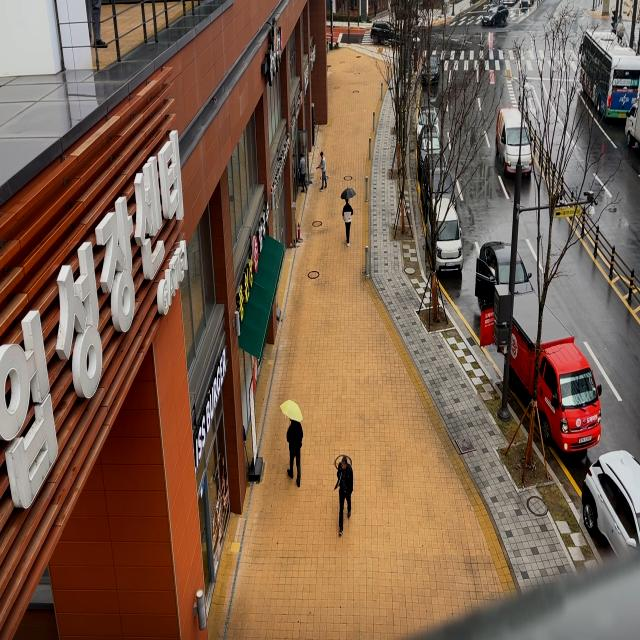Bus: (575, 29, 640, 131)
Car: (575, 438, 640, 564), (475, 226, 535, 312), (493, 103, 533, 188), (425, 198, 466, 276), (419, 152, 468, 210), (362, 10, 408, 55), (416, 41, 452, 88), (478, 1, 514, 35), (419, 94, 448, 134), (414, 129, 446, 164)
Truck: (488, 284, 608, 460), (622, 94, 640, 150)
